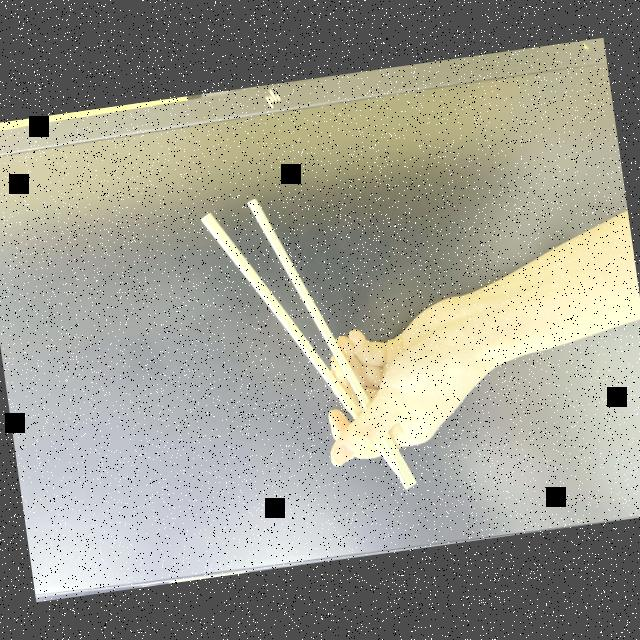stick: (198, 168, 494, 512)
